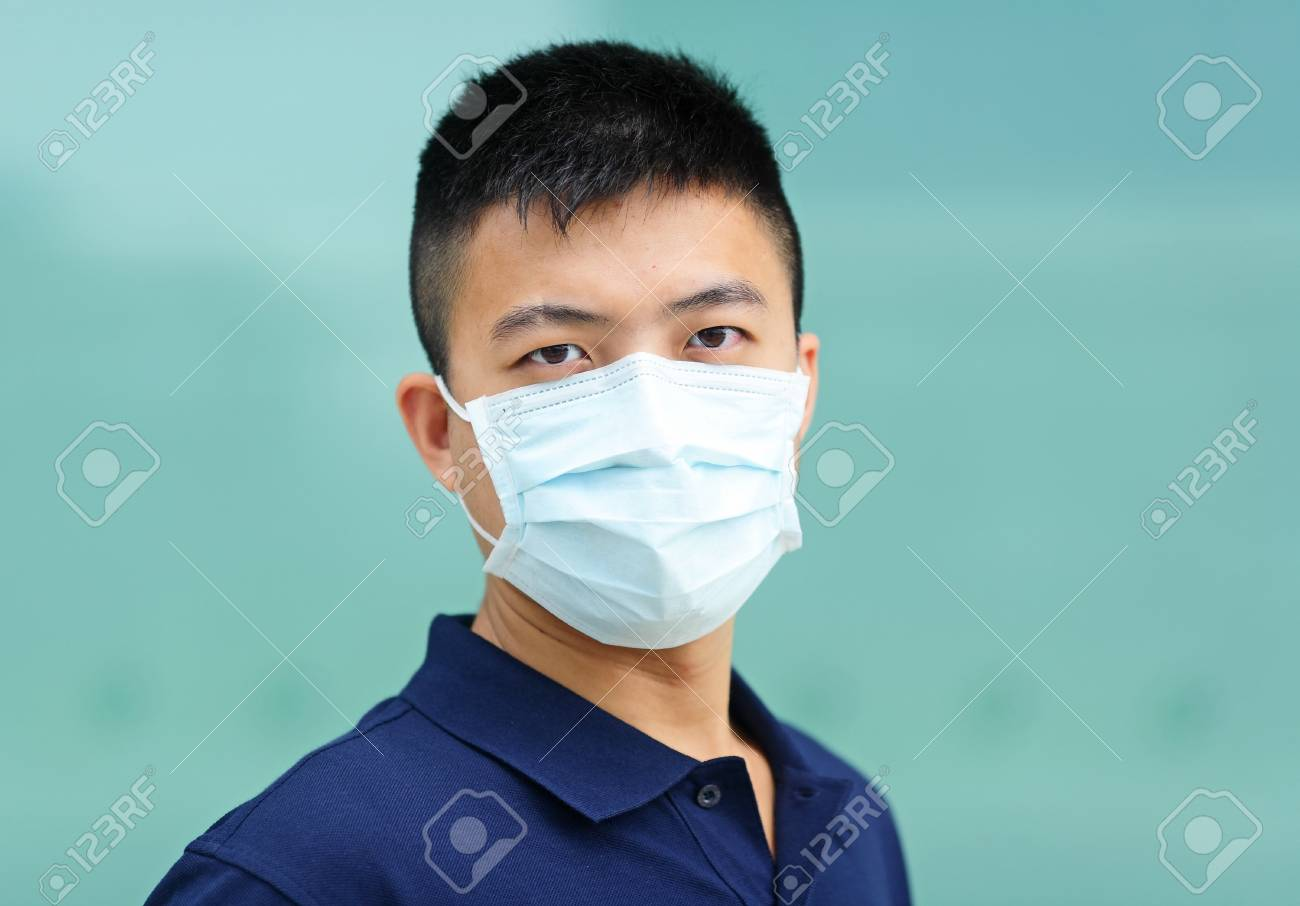surgical: (452, 358, 831, 655)
